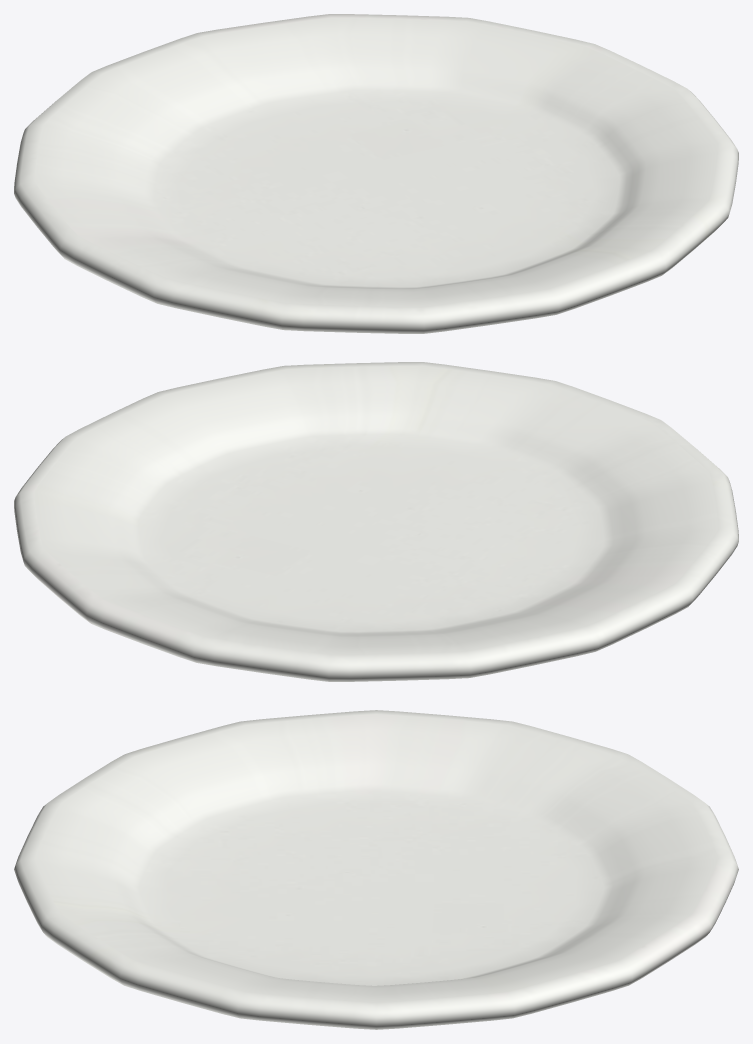
Rendered from Plate.fbx.
The picture shows the model from 3 angles, top to bottom: view 1: azimuth 30°, elevation 25°; view 2: azimuth 150°, elevation 25°; view 3: azimuth 270°, elevation 25°; orthographic projection.
Parts seen in each view (by area): view 1: Plate; view 2: Plate; view 3: Plate.
Boxes of the visible parts, left/top/right/bottom form: Plate: left=14, top=14, right=738, bottom=333; Plate: left=14, top=362, right=738, bottom=681; Plate: left=14, top=710, right=738, bottom=1029.
Bounding box in the file's own units: 24.46 × 2.13 × 24.46.
1 material, 1 textured.
